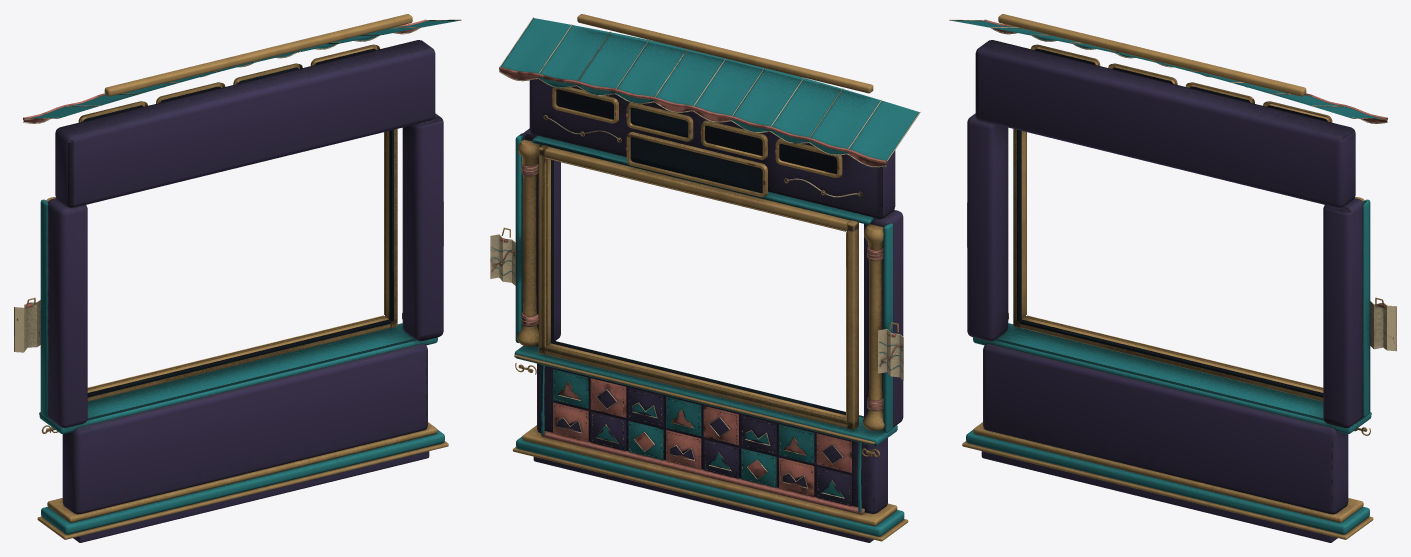
3 views of the same model, side by side, from view 1: azimuth 30°, elevation 25°; view 2: azimuth 150°, elevation 25°; view 3: azimuth 330°, elevation 25° (orthographic). The views are drawn at different scales.
Parts seen in each view (by area): view 1: Deep_violet_upholstery, Woven_teal_cloth, Satin_aged_brass, Uniform_dark_display, Warm_ivory_paper_and_thread; view 2: Woven_teal_cloth, Satin_aged_brass, Deep_violet_upholstery, Woven_coral_cloth, Uniform_dark_display, Warm_ivory_paper_and_thread; view 3: Deep_violet_upholstery, Woven_teal_cloth, Satin_aged_brass, Uniform_dark_display, Warm_ivory_paper_and_thread.
Part boxes in pixels (left/top/right/bottom): Deep_violet_upholstery: left=48, top=40, right=443, bottom=542; Woven_teal_cloth: left=30, top=20, right=460, bottom=534; Satin_aged_brass: left=17, top=14, right=448, bottom=539; Uniform_dark_display: left=83, top=48, right=393, bottom=397; Warm_ivory_paper_and_thread: left=14, top=19, right=461, bottom=352; Woven_teal_cloth: left=491, top=18, right=919, bottom=536; Satin_aged_brass: left=493, top=14, right=908, bottom=541; Deep_violet_upholstery: left=522, top=79, right=903, bottom=542; Woven_coral_cloth: left=491, top=66, right=902, bottom=514; Uniform_dark_display: left=551, top=89, right=845, bottom=415; Warm_ivory_paper_and_thread: left=490, top=17, right=920, bottom=504; Deep_violet_upholstery: left=967, top=40, right=1362, bottom=542; Woven_teal_cloth: left=950, top=20, right=1380, bottom=534; Satin_aged_brass: left=962, top=14, right=1393, bottom=539; Uniform_dark_display: left=1017, top=48, right=1327, bottom=397; Warm_ivory_paper_and_thread: left=949, top=19, right=1396, bottom=351.
Bounding box in the file's own units: 9.44 × 9.5 × 1.4.
Materials: 6 (6 with a texture image).
